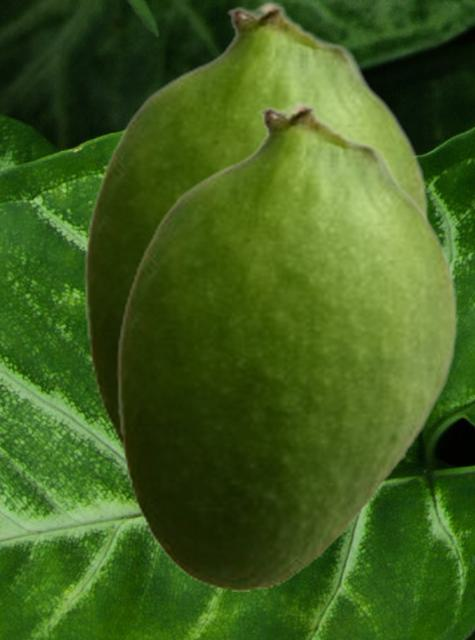green_mango: (116, 100, 457, 590), (83, 0, 428, 451)
